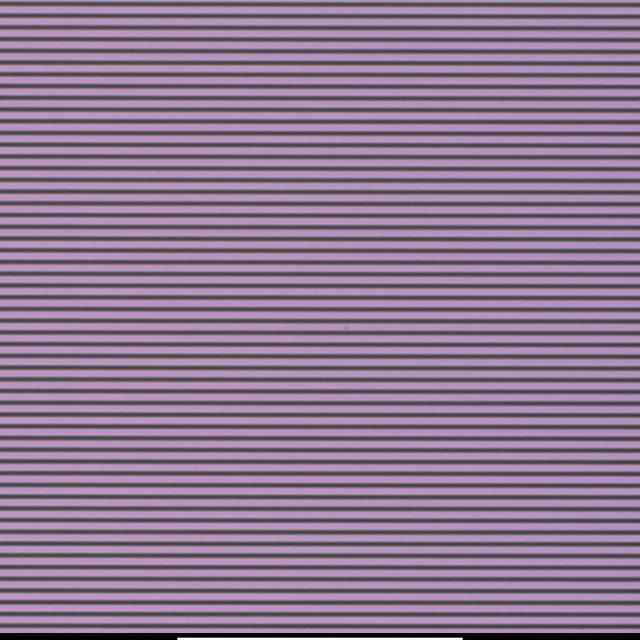nonvisual: (342, 321, 351, 334)
